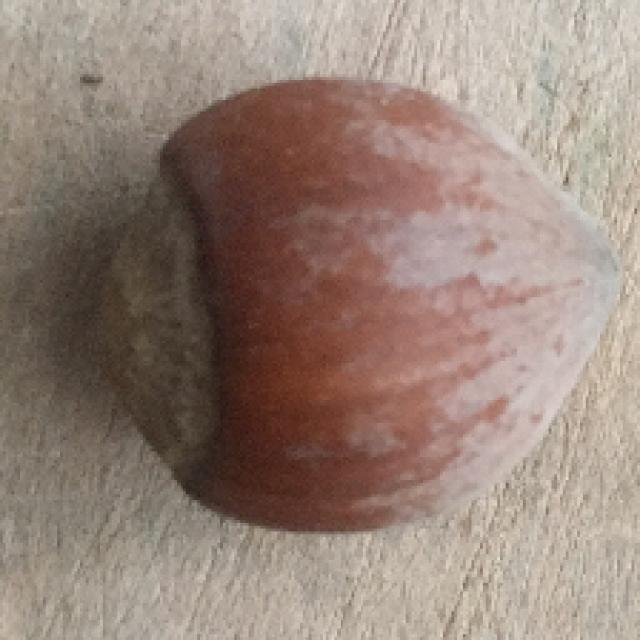qualityHazelnut: (93, 77, 621, 533)
